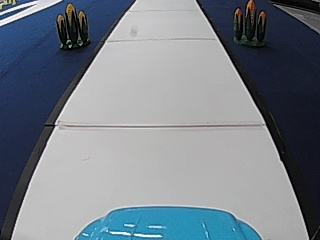corn: (229, 0, 269, 48), (54, 2, 91, 49)
